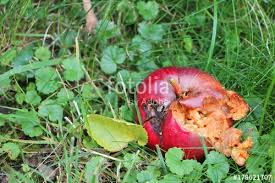damaged_apple: (134, 69, 245, 164)
